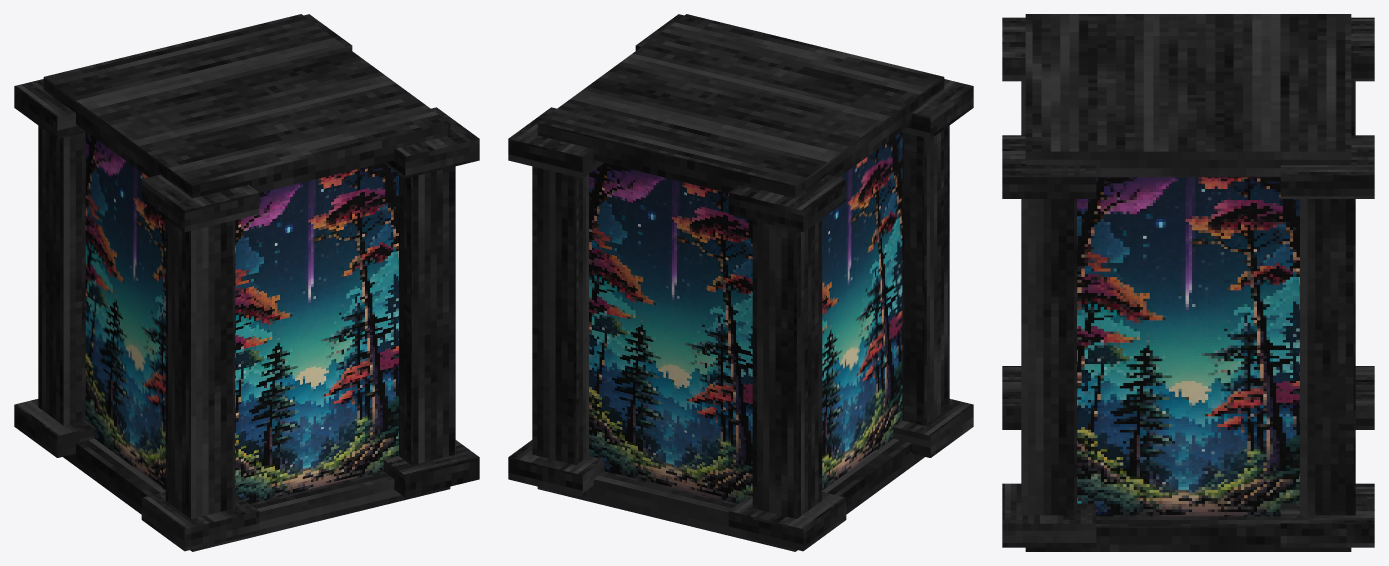
Rendered from pixel_lantern_special_lowpoly.fbx.
3 renders of one model, left to right at view 1: azimuth 30°, elevation 25°; view 2: azimuth 150°, elevation 25°; view 3: azimuth 270°, elevation 25°, orthographic. The views are drawn at different scales.
Parts seen in each view (by area): view 1: psx_lantern_special_paper, psx_lantern_special_base, psx_lantern_special_support, psx_lantern_special_support2; view 2: psx_lantern_special_paper, psx_lantern_special_base, psx_lantern_special_support, psx_lantern_special_support2; view 3: psx_lantern_special_paper, psx_lantern_special_base, psx_lantern_special_support, psx_lantern_special_support2.
Boxes of the visible parts, bbox=[...] form: psx_lantern_special_paper: bbox=[85, 132, 398, 503]; psx_lantern_special_base: bbox=[43, 14, 450, 551]; psx_lantern_special_support: bbox=[38, 125, 455, 518]; psx_lantern_special_support2: bbox=[14, 14, 479, 551]; psx_lantern_special_paper: bbox=[589, 132, 902, 503]; psx_lantern_special_base: bbox=[537, 14, 944, 551]; psx_lantern_special_support: bbox=[532, 125, 949, 518]; psx_lantern_special_support2: bbox=[508, 14, 973, 551]; psx_lantern_special_paper: bbox=[1077, 177, 1299, 516]; psx_lantern_special_base: bbox=[1025, 14, 1351, 551]; psx_lantern_special_support: bbox=[1021, 81, 1355, 515]; psx_lantern_special_support2: bbox=[1002, 17, 1374, 547].
Size of the model in its own units: 268 by 317 by 268.
